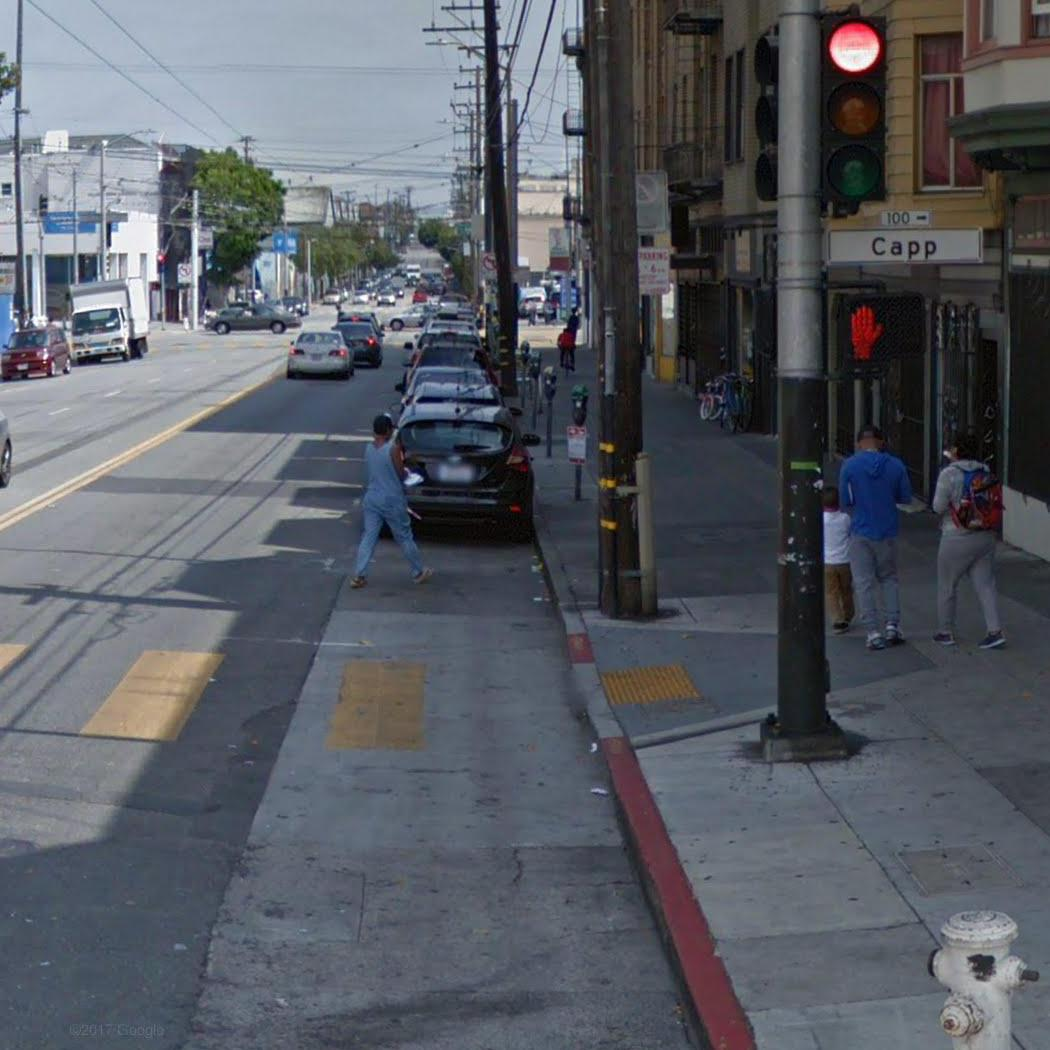No Parking: (635, 244, 673, 298)
